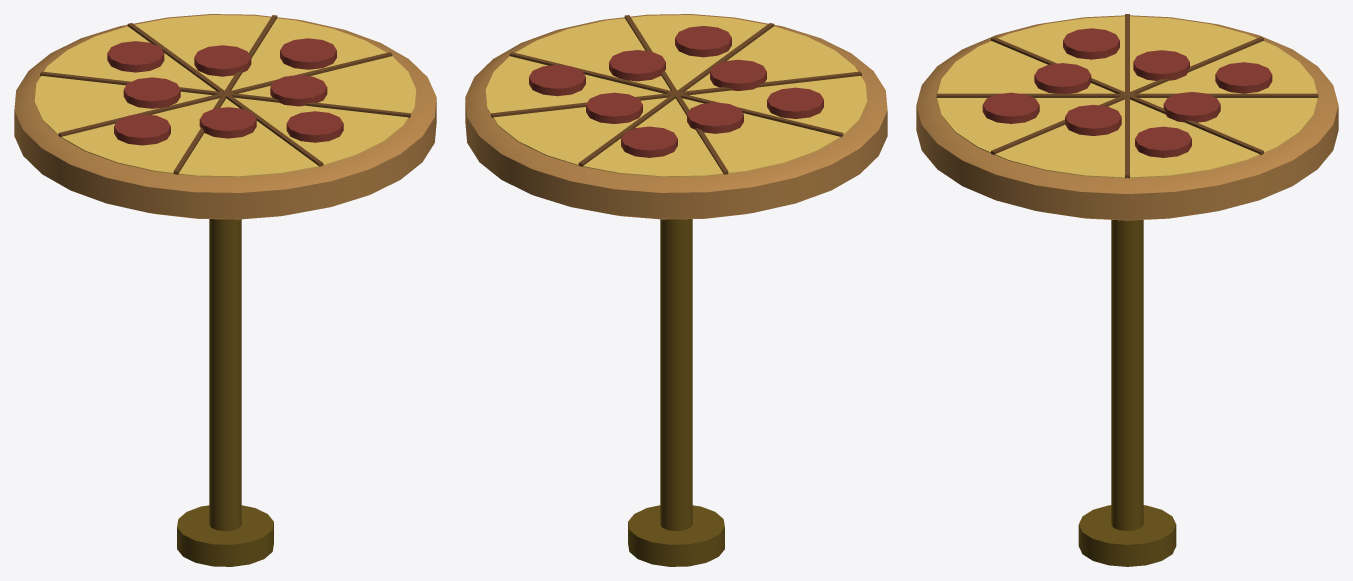
File: pizza_sign.glb
The picture shows the model from 3 angles, left to right: view 1: azimuth 30°, elevation 25°; view 2: azimuth 150°, elevation 25°; view 3: azimuth 270°, elevation 25°; orthographic projection.
Visible parts, largest first — view 1: Spin, Pole; view 2: Spin, Pole; view 3: Spin, Pole.
Part boxes in pixels (x1,y1,x2,y2): Spin: (14, 14, 436, 219); Pole: (177, 219, 273, 566); Spin: (465, 14, 887, 219); Pole: (628, 219, 724, 566); Spin: (916, 14, 1338, 220); Pole: (1078, 220, 1176, 566).
Bounding box in the file's own units: 0.52 × 0.621 × 0.52.
